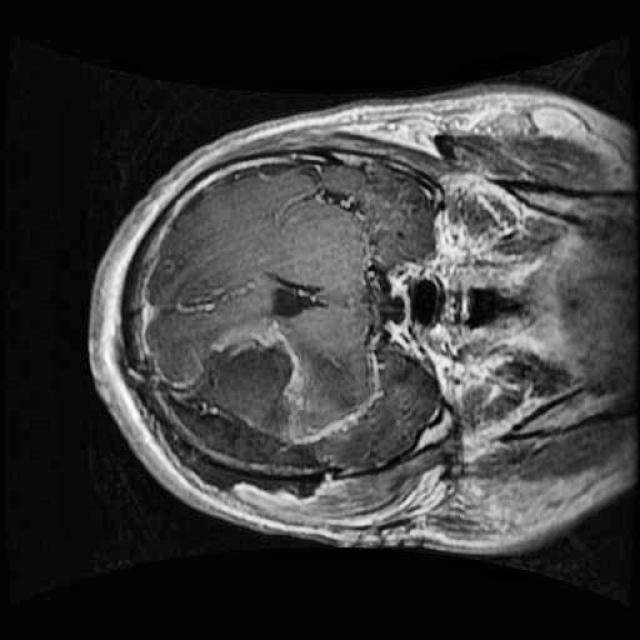Non-Tumor: (139, 315, 369, 495)
